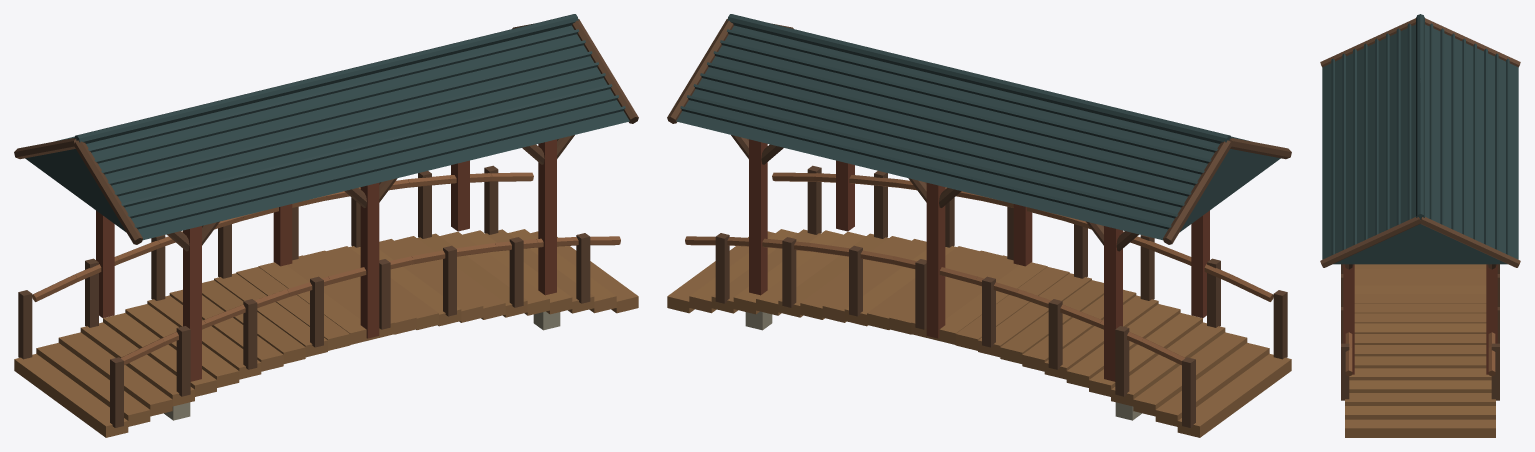
File: build-covered-bridge.glb
3 renders of one model, left to right at view 1: azimuth 30°, elevation 25°; view 2: azimuth 150°, elevation 25°; view 3: azimuth 270°, elevation 25°, orthographic. The views are drawn at different scales.
Visible parts, largest first — view 1: SculptedModel; view 2: SculptedModel; view 3: SculptedModel.
Boxes of the visible parts, x1,y1,x2,y2 form: SculptedModel: (14, 14, 638, 437); SculptedModel: (667, 14, 1291, 437); SculptedModel: (1320, 14, 1520, 437).
Size of the model in its own units: 7.2 by 3.48 by 2.86.
